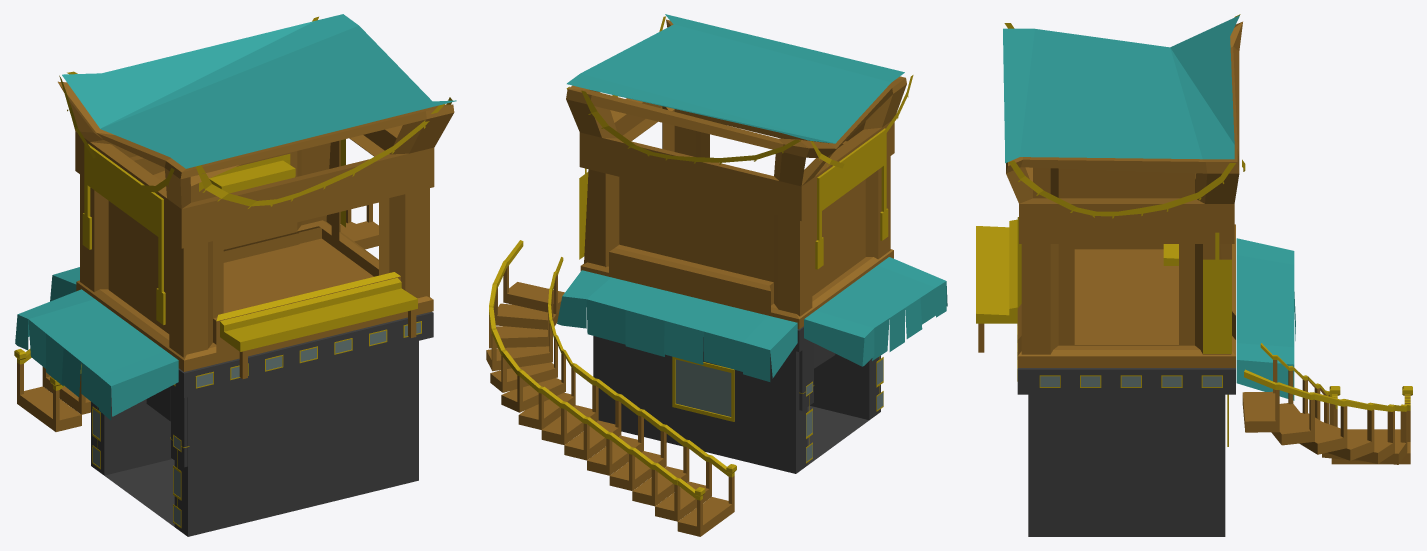
File: newShopGuizFINI.fbx
3 renders of one model, left to right at view 1: azimuth 30°, elevation 25°; view 2: azimuth 150°, elevation 25°; view 3: azimuth 270°, elevation 25°, orthographic. The views are drawn at different scales.
Parts seen in each view (by area): view 1: decosToit.007, ShopStairs.002; view 2: decosToit.007, ShopStairs.002; view 3: decosToit.007, ShopStairs.002.
Boxes of the visible parts, x1=… form: decosToit.007: x1=15, y1=14, x2=456, y2=536; ShopStairs.002: x1=14, y1=204, x2=378, y2=431; decosToit.007: x1=557, y1=14, x2=947, y2=473; ShopStairs.002: x1=486, y1=240, x2=736, y2=536; decosToit.007: x1=976, y1=14, x2=1295, y2=536; ShopStairs.002: x1=1242, y1=343, x2=1412, y2=464.
Bounding box in the file's own units: 838 × 828 × 808.
